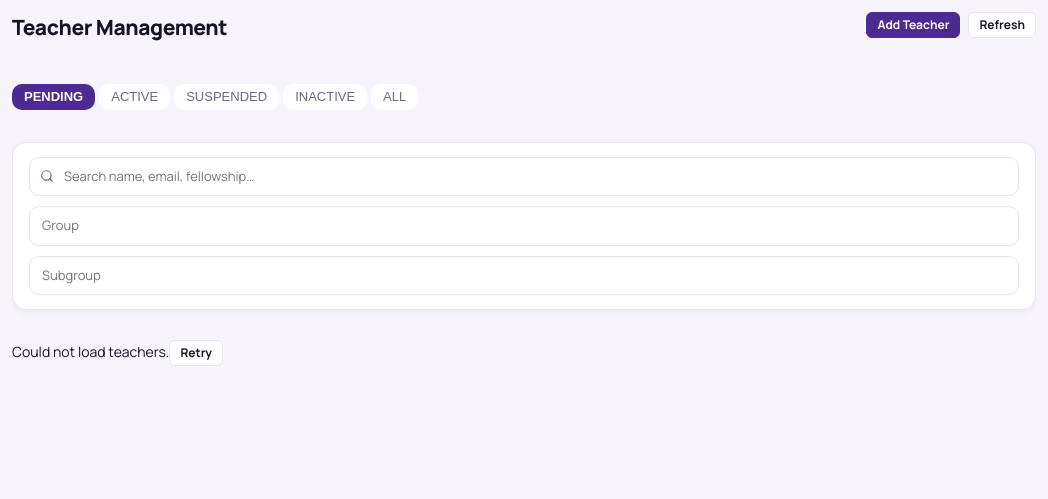
Test case: TeacherManagementPage load states › retries the load from the error banner
Click the button "Retry" at (196, 353), box [169,340,223,366]
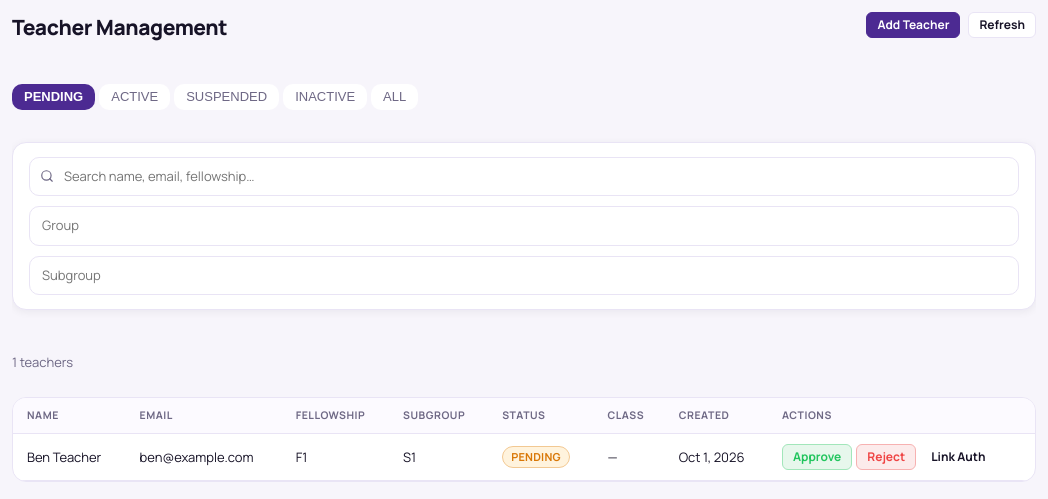
Check: the table is shown, box [13,398,1035,482]
